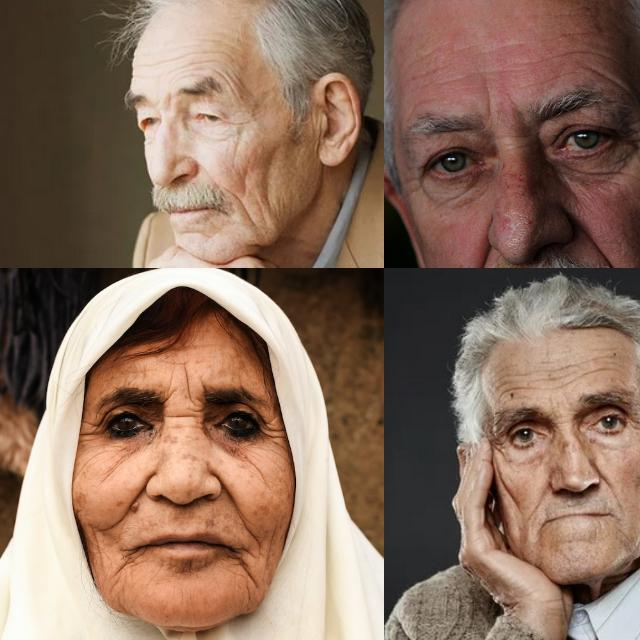chin: (174, 221, 206, 237), (182, 560, 200, 578)
crows_feet: (260, 418, 284, 449), (218, 108, 244, 136), (619, 116, 640, 150), (81, 420, 105, 446), (491, 431, 509, 453), (624, 410, 640, 433)
forehead: (582, 60, 630, 96), (554, 41, 610, 68), (578, 350, 618, 380), (172, 42, 202, 78), (218, 64, 242, 98), (541, 368, 571, 390), (496, 378, 530, 394)
frown_line: (477, 80, 497, 120), (179, 366, 195, 402)
gummy_smile: (566, 202, 606, 260), (466, 226, 500, 268), (210, 470, 242, 514), (124, 481, 148, 521), (598, 467, 614, 491)
masseter: (231, 186, 257, 226), (86, 524, 108, 562), (250, 459, 268, 491), (499, 473, 517, 502), (265, 524, 277, 566), (99, 458, 117, 484)
sad_smile: (116, 546, 142, 574), (234, 545, 256, 577)
